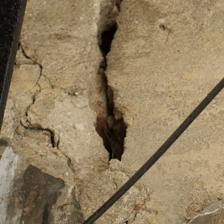Crack: (0, 0, 117, 93), (23, 0, 105, 70)
